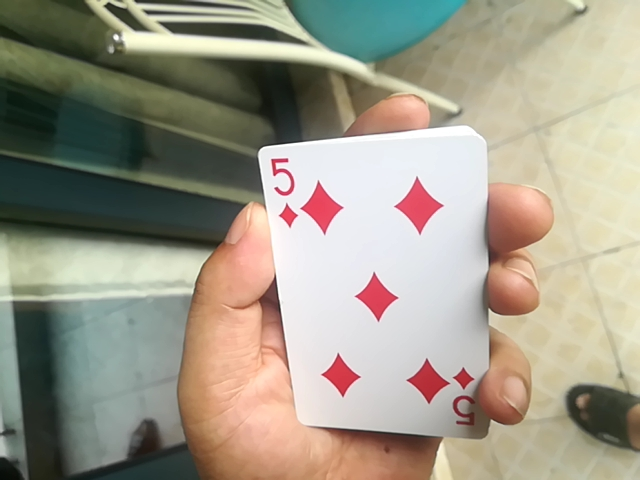fk 5: (266, 127, 495, 450)
